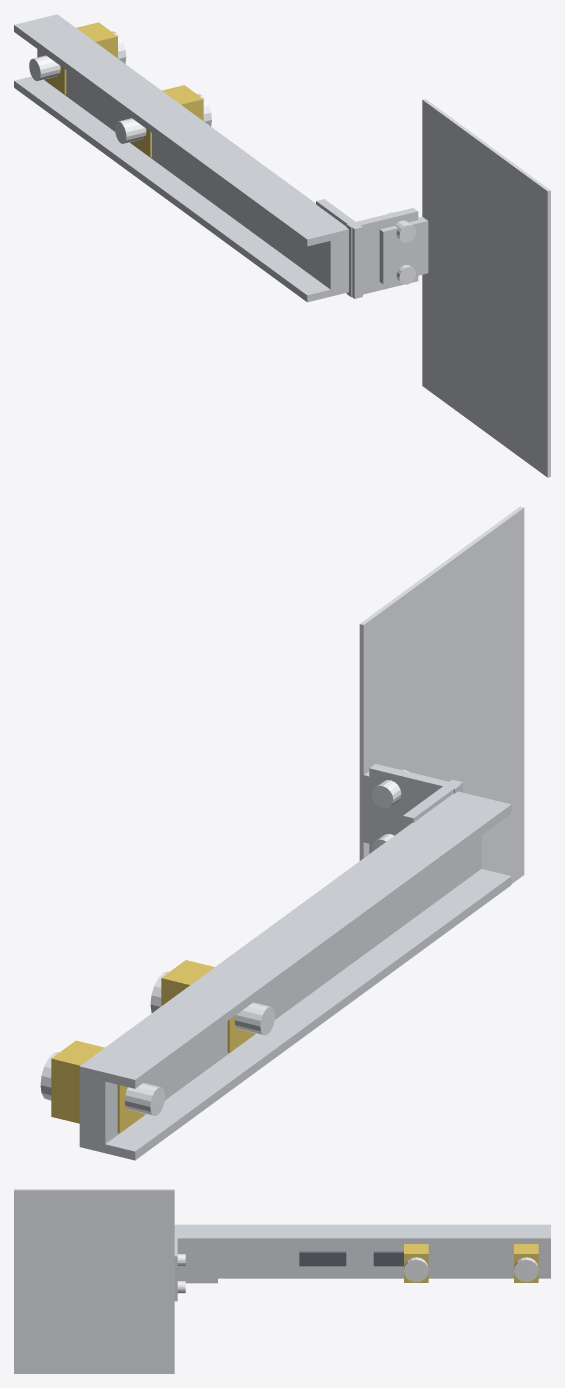
Rendered from leveling_vane.glb.
3 renders of one model, top to bottom at view 1: azimuth 30°, elevation 25°; view 2: azimuth 150°, elevation 25°; view 3: azimuth 270°, elevation 25°, orthographic. The views are drawn at different scales.
Parts seen in each view (by area): view 1: VanePlate, ArmFlangeTop, ArmWeb, ArmFlangeBot, MountAngleX, VaneAttachmentTab, MountAngleZ, RailClip_-1, RailClip_1, ClipBolt_-1, ClipBolt_1; view 2: VanePlate, ArmFlangeTop, ArmWeb, ArmFlangeBot, RailClip_-1, MountAngleX, RailClip_1, ClipBolt_-1, ClipBolt_1, MountAngleZ; view 3: VanePlate, ArmWeb, ArmFlangeTop, MountAngleZ, ArmSlot_0.12, ClipNut_1, ClipNut_-1, RailClip_1, RailClip_-1, ArmSlot_0.06, MountAngleX.
Part boxes in pixels (bbox=[...]): VanePlate: bbox=[422, 99, 550, 477]; ArmFlangeTop: bbox=[14, 16, 340, 246]; ArmWeb: bbox=[37, 14, 348, 296]; ArmFlangeBot: bbox=[14, 76, 340, 302]; MountAngleX: bbox=[346, 208, 418, 297]; VaneAttachmentTab: bbox=[379, 216, 428, 284]; MountAngleZ: bbox=[316, 199, 362, 298]; RailClip_-1: bbox=[45, 22, 117, 94]; RailClip_1: bbox=[131, 85, 203, 157]; ClipBolt_-1: bbox=[29, 55, 60, 81]; ClipBolt_1: bbox=[115, 118, 146, 143]; VanePlate: bbox=[359, 506, 524, 883]; ArmFlangeTop: bbox=[92, 794, 511, 1088]; ArmWeb: bbox=[79, 791, 481, 1152]; ArmFlangeBot: bbox=[92, 869, 511, 1160]; RailClip_-1: bbox=[51, 1040, 144, 1133]; MountAngleX: bbox=[369, 764, 460, 853]; RailClip_1: bbox=[161, 960, 254, 1052]; ClipBolt_-1: bbox=[124, 1083, 164, 1115]; ClipBolt_1: bbox=[234, 1002, 274, 1035]; MountAngleZ: bbox=[403, 779, 462, 829]; VanePlate: bbox=[14, 1189, 174, 1373]; ArmWeb: bbox=[175, 1235, 550, 1278]; ArmFlangeTop: bbox=[174, 1224, 550, 1235]; MountAngleZ: bbox=[174, 1236, 217, 1283]; ArmSlot_0.12: bbox=[299, 1251, 346, 1266]; ClipNut_1: bbox=[404, 1257, 428, 1282]; ClipNut_-1: bbox=[514, 1257, 538, 1282]; RailClip_1: bbox=[404, 1244, 428, 1282]; RailClip_-1: bbox=[514, 1244, 538, 1282]; ArmSlot_0.06: bbox=[373, 1251, 403, 1266]; MountAngleX: bbox=[174, 1235, 177, 1301].
Size of the model in its own units: 0.071 by 0.164 by 0.4345.
